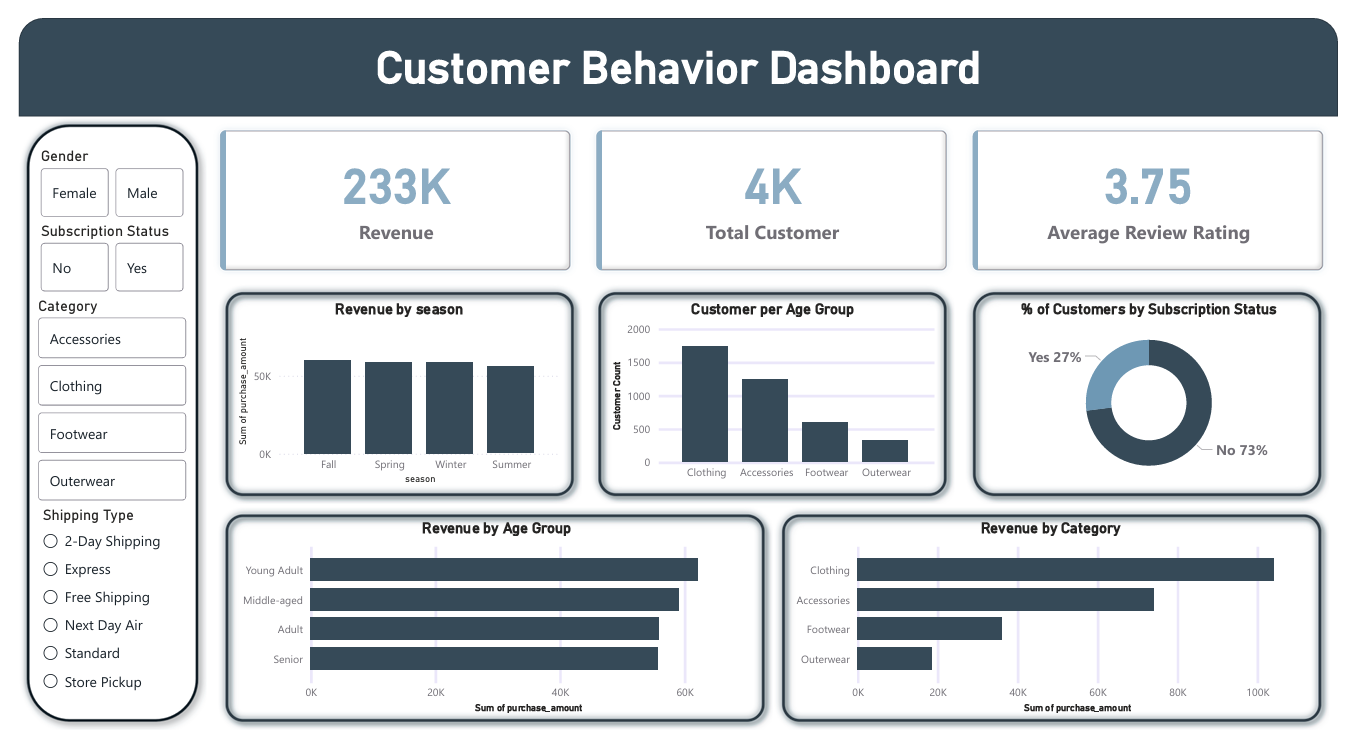

Layout of this report page (visuals, bound fields, positions):
{"tool":"powerbi","page":{"name":"Page 1","canvas":[1500,810],"ordinal":0},"visuals":[{"type":"cardVisual","fields":{"Data":["customer_behavior customer.Revenue","customer_behavior customer.total_customer","customer_behavior customer.avg_review_rating"]},"box":[213.3,111.7,1286.7,191.7],"z":0},{"type":"shape","box":[0,0,1500,111.7],"z":1000},{"type":"textbox","box":[333.3,21.7,833.3,70],"z":2000},{"type":"shape","box":[0,111.7,213.3,698.3],"z":3000},{"type":"advancedSlicerVisual","fields":{"Values":["customer_behavior customer.gender"]},"box":[20,146.7,173.3,85],"z":4000},{"type":"advancedSlicerVisual","fields":{"Values":["customer_behavior customer.subscription_status"]},"box":[20,231.7,173.3,85],"z":5000},{"type":"advancedSlicerVisual","fields":{"Values":["customer_behavior customer.category"]},"box":[16.7,316.7,178.3,238.3],"z":6000},{"type":"listSlicer","fields":{"Values":["customer_behavior customer.shipping_type"]},"box":[21.7,555,168.3,225],"z":7000},{"type":"shape","box":[225.7,302.9,414.3,250],"z":8000},{"type":"columnChart","title":"Revenue by season","fields":{"Category":["customer_behavior customer.season"],"Y":["Sum(customer_behavior customer.purchase_amount)"]},"box":[244.3,321.4,377.1,214.3],"z":9000},{"type":"shape","box":[650,302.9,414.3,250],"z":10000},{"type":"shape","box":[1075.7,302.9,414.3,250],"z":11000},{"type":"columnChart","title":"Customer per Age Group","fields":{"Category":["customer_behavior customer.category"],"Y":["customer_behavior customer.total_customer"]},"box":[668.6,321.4,377.1,214.3],"z":12000},{"type":"donutChart","title":"% of Customers by Subscription Status","fields":{"Y":["Count(customer_behavior customer.customer_id)"],"Category":["customer_behavior customer.subscription_status"]},"box":[1097.1,321.4,375.7,214.3],"z":13000},{"type":"shape","box":[225.7,555.7,631.4,254.3],"z":14000},{"type":"barChart","title":"Revenue by Age Group","fields":{"Y":["Sum(customer_behavior customer.purchase_amount)"],"Category":["customer_behavior customer.age_group"]},"box":[244.3,570,600,225.7],"z":15000},{"type":"shape","box":[858.6,555.7,631.4,254.3],"z":16000},{"type":"barChart","title":"Revenue by Category","fields":{"Y":["Sum(customer_behavior customer.purchase_amount)"],"Category":["customer_behavior customer.category"]},"box":[874.3,570,600,225.7],"z":17000}]}

Visuals, with their boxes in screenshot pixels (x1, y1, x2, y2), scaled from the page's 1500x810 canvas onto the 1358x750 screenshot:
cardVisual - customer_behavior customer.Revenue x customer_behavior customer.total_customer: Rect(193, 103, 1357, 281)
shape: Rect(0, 0, 1357, 103)
textbox: Rect(302, 20, 1056, 85)
shape: Rect(0, 103, 193, 749)
advancedSlicerVisual - customer_behavior customer.gender: Rect(18, 136, 175, 215)
advancedSlicerVisual - customer_behavior customer.subscription_status: Rect(18, 215, 175, 293)
advancedSlicerVisual - customer_behavior customer.category: Rect(15, 293, 177, 514)
listSlicer - customer_behavior customer.shipping_type: Rect(20, 514, 172, 722)
shape: Rect(204, 280, 579, 512)
"Revenue by season" columnChart: Rect(221, 298, 563, 496)
shape: Rect(588, 280, 964, 512)
shape: Rect(974, 280, 1349, 512)
"Customer per Age Group" columnChart: Rect(605, 298, 947, 496)
"% of Customers by Subscription Status" donutChart: Rect(993, 298, 1333, 496)
shape: Rect(204, 515, 776, 749)
"Revenue by Age Group" barChart: Rect(221, 528, 764, 737)
shape: Rect(777, 515, 1349, 749)
"Revenue by Category" barChart: Rect(792, 528, 1335, 737)
